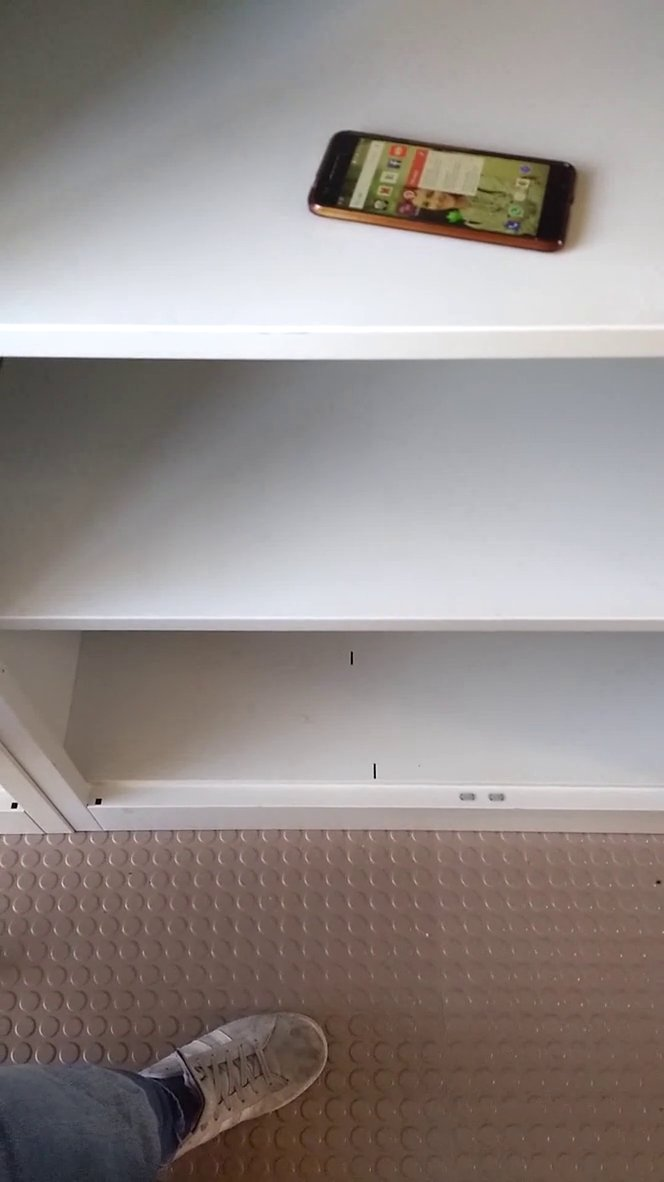phone: (296, 122, 596, 273)
